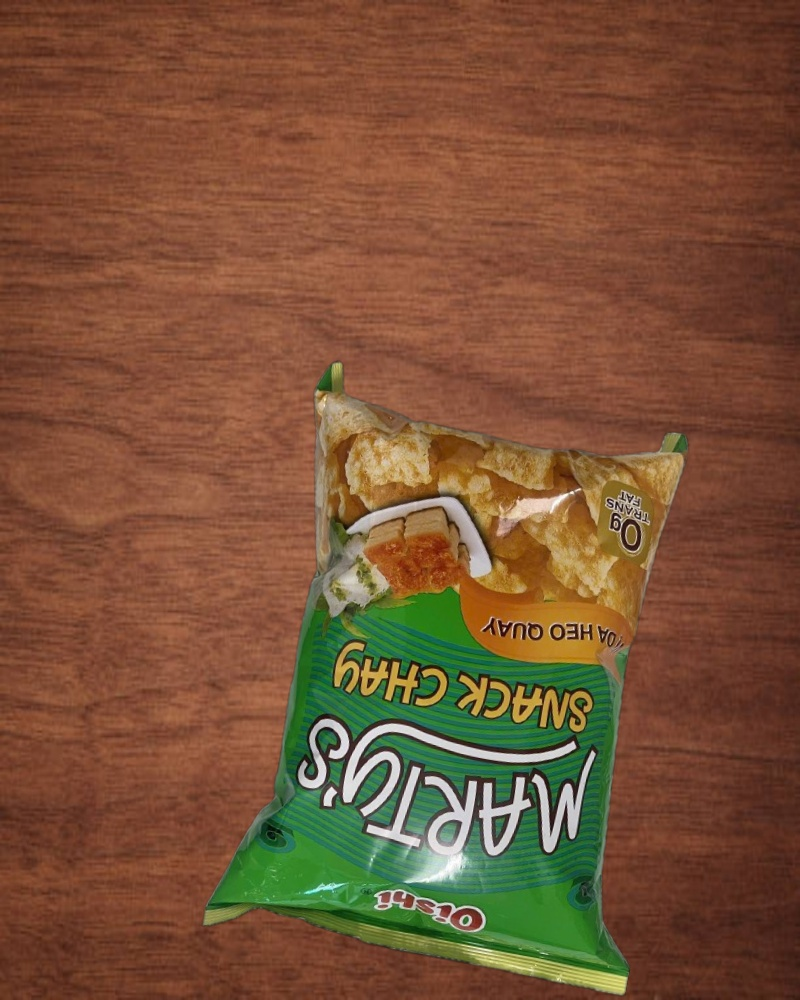Snack chay: (222, 361, 724, 1000)
